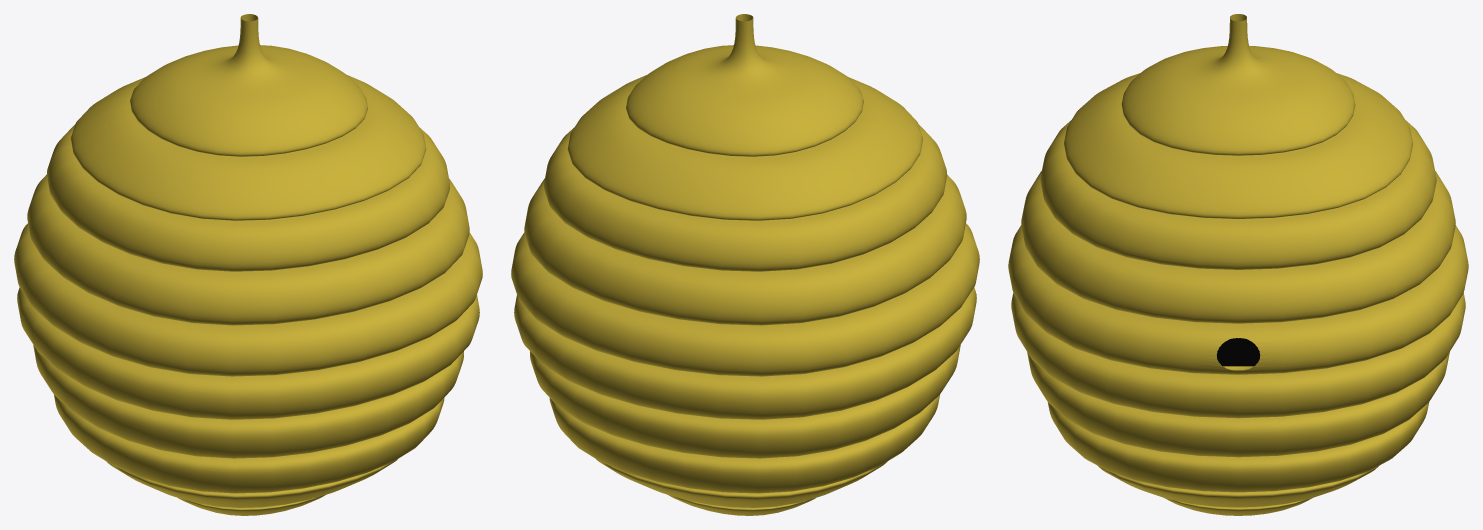
File: Graham-Rush-Beehive.glb
3 views of the same model, side by side, from view 1: azimuth 30°, elevation 25°; view 2: azimuth 150°, elevation 25°; view 3: azimuth 270°, elevation 25° (orthographic).
Visible parts, largest first — view 1: Beehive; view 2: Beehive; view 3: Beehive.
Boxes of the visible parts, x1,y1,x2,y2 form: Beehive: (14,14,482,515); Beehive: (511,14,979,515); Beehive: (1008,14,1468,515).
Bounding box in the file's own units: 2.69 × 3.13 × 2.7.
